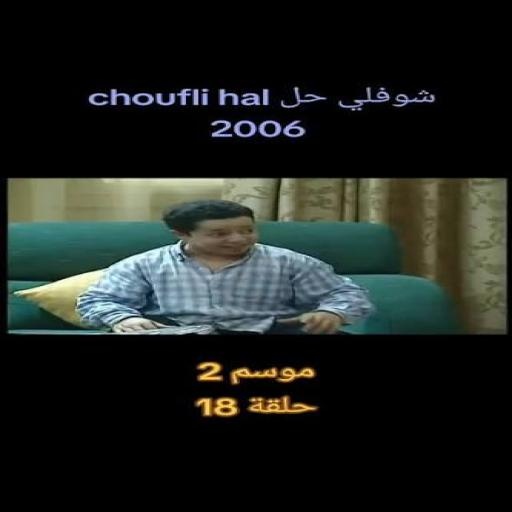fouchika: (163, 200, 257, 259)
